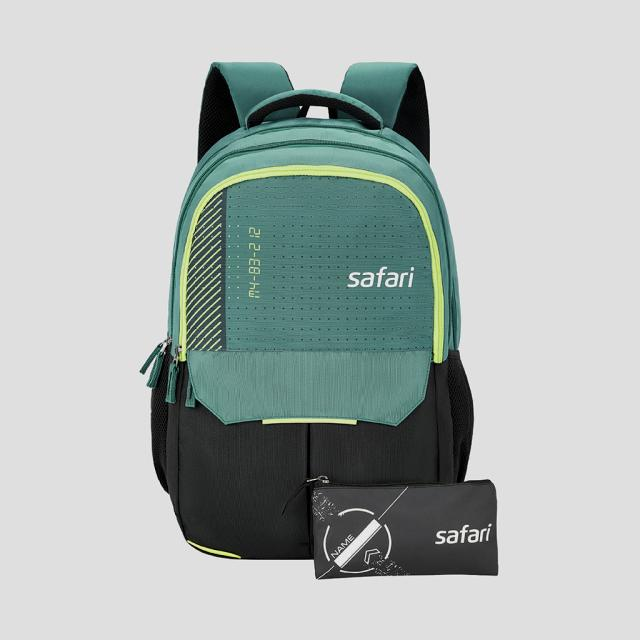backpack: (142, 61, 476, 562)
